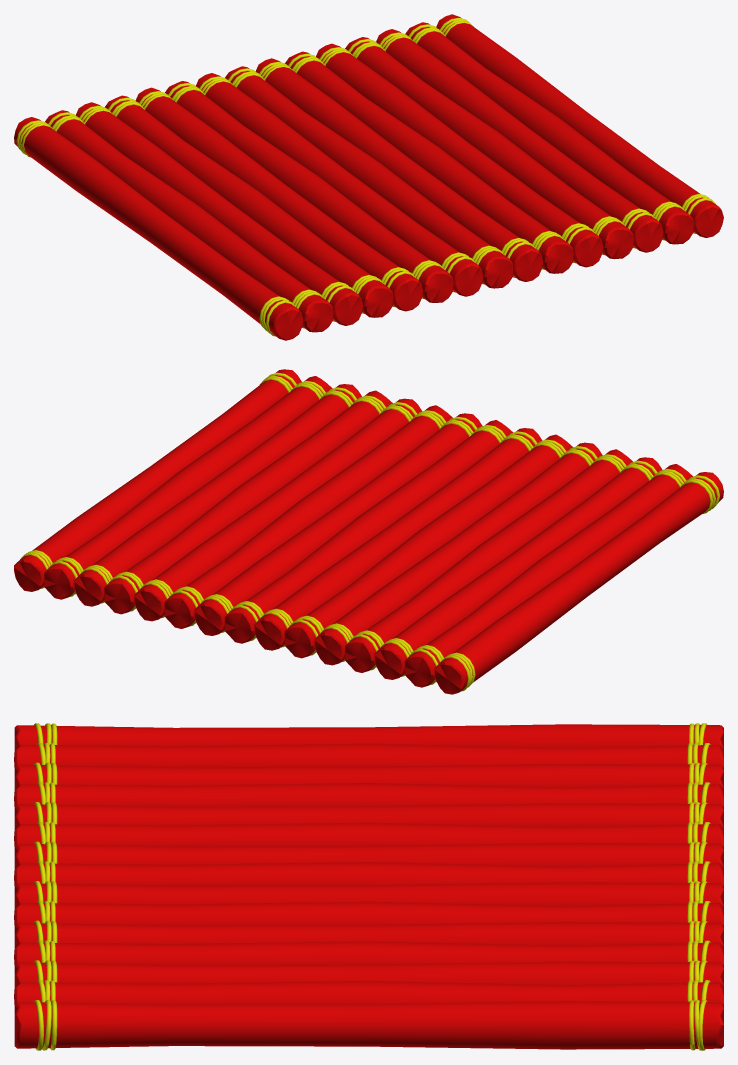
Rendered from MESH_WoodRaft.fbx.
3 renders of one model, top to bottom at view 1: azimuth 30°, elevation 25°; view 2: azimuth 150°, elevation 25°; view 3: azimuth 270°, elevation 25°, orthographic. The views are drawn at different scales.
Visible parts, largest first — view 1: Balsa_low; view 2: Balsa_low; view 3: Balsa_low.
Part boxes in pixels (x1,y1,x2,y2): Balsa_low: (14, 14, 723, 340); Balsa_low: (14, 369, 723, 694); Balsa_low: (14, 723, 723, 1050).
Size of the model in its own units: 15 by 1.08 by 15.06.
